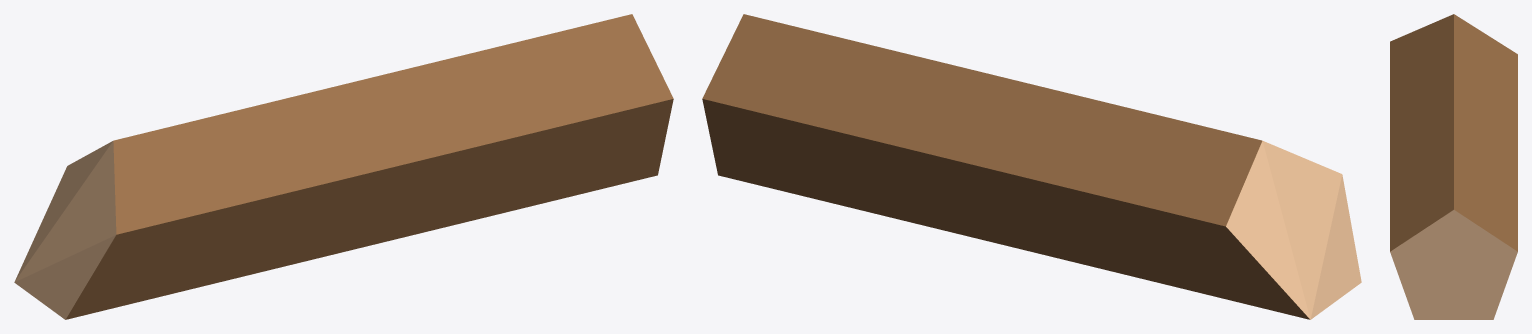
File: Pine_Firewood_01.fbx
3 views of the same model, side by side, from view 1: azimuth 30°, elevation 25°; view 2: azimuth 150°, elevation 25°; view 3: azimuth 270°, elevation 25° (orthographic). The views are drawn at different scales.
Parts seen in each view (by area): view 1: Pine_Firewood_01; view 2: Pine_Firewood_01; view 3: Pine_Firewood_01.
Boxes of the visible parts, left/top/right/bottom form: Pine_Firewood_01: left=14, top=14, right=673, bottom=319; Pine_Firewood_01: left=702, top=14, right=1361, bottom=319; Pine_Firewood_01: left=1390, top=14, right=1517, bottom=319.
Size of the model in its own units: 54.57 by 12.56 by 13.2.
